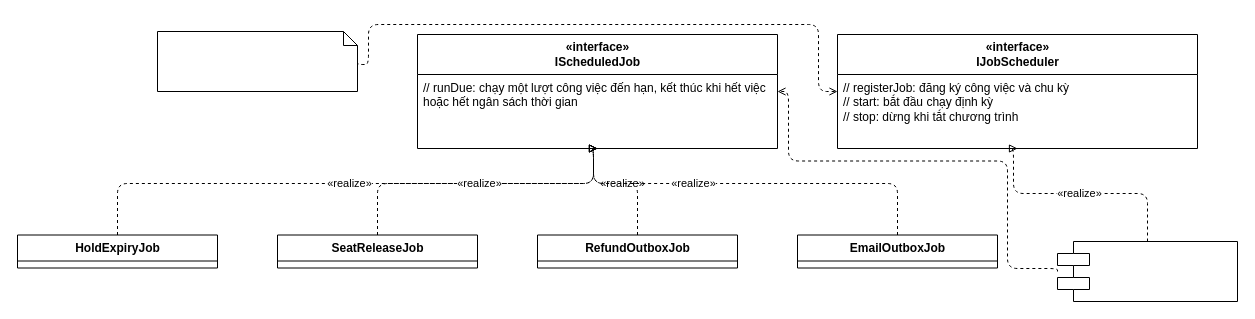
This 1255x319 diagram has some shape labels left out. Each missing label, with the centre of its shape:
Hàm khởi động chương trình (ngoài mô hình package): (x=257, y=61)
«subsystem» Scheduler: (x=1147, y=271)
